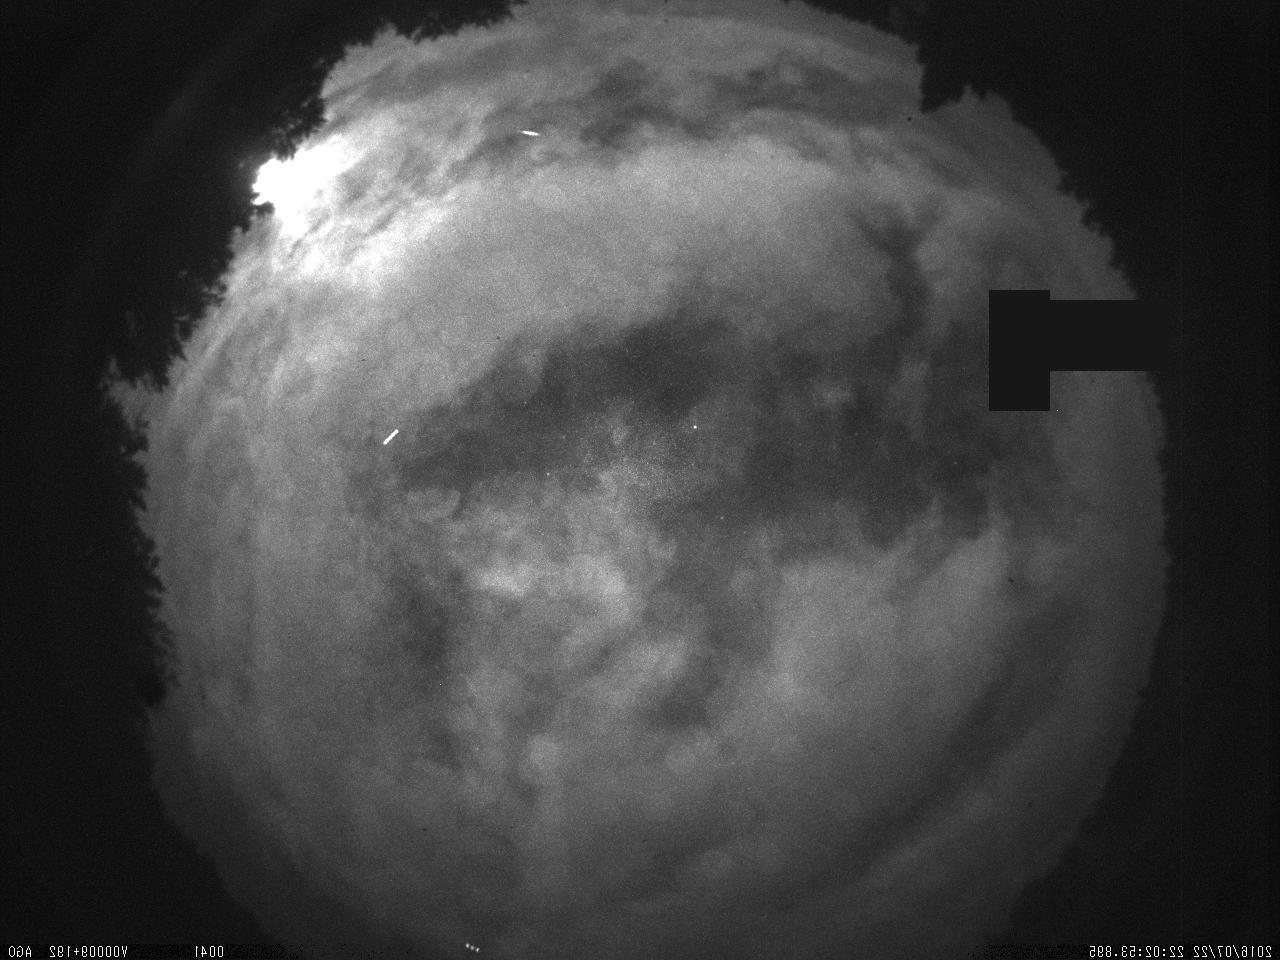meteor: (515, 122, 543, 142)
satelite: (376, 419, 409, 457), (459, 938, 487, 956)
